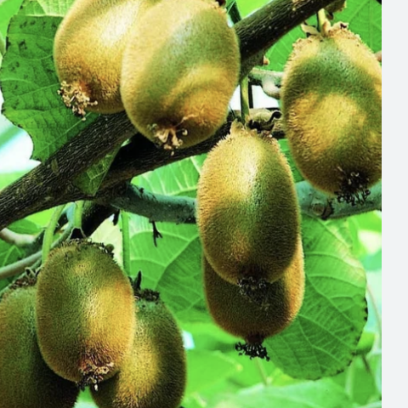kiwi: (266, 27, 408, 220), (180, 117, 315, 294), (118, 0, 266, 149), (23, 238, 144, 382)
